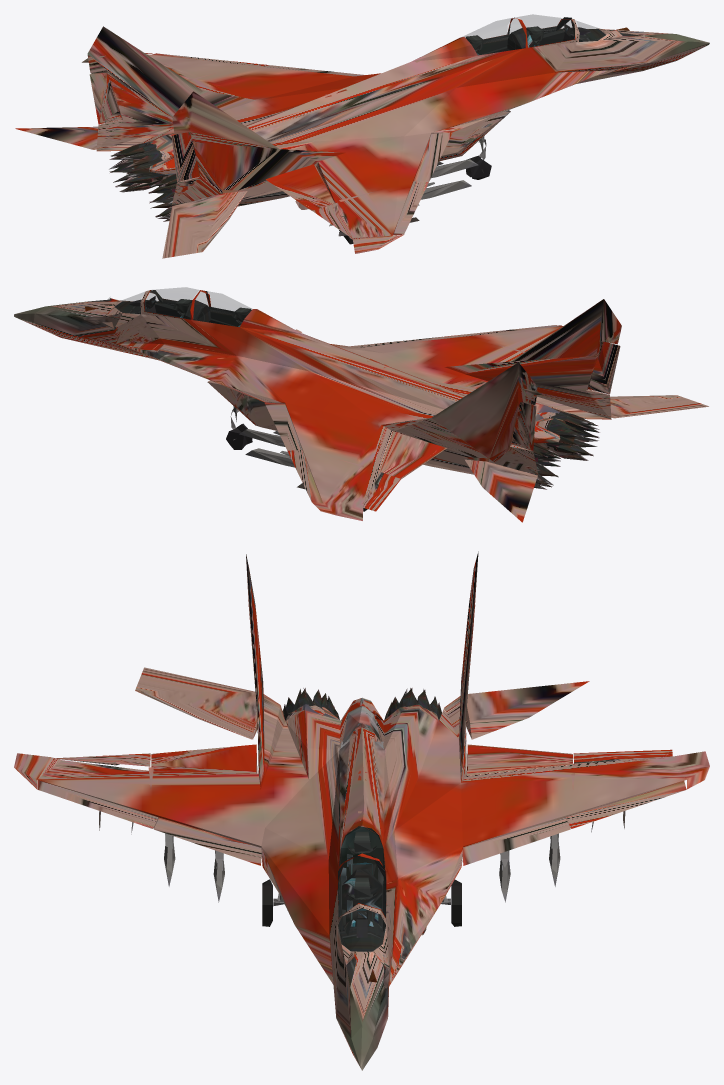
The picture shows the model from 3 angles, top to bottom: view 1: azimuth 30°, elevation 25°; view 2: azimuth 150°, elevation 25°; view 3: azimuth 270°, elevation 25°; orthographic projection. The views are drawn at different scales.
Visible parts, largest first — view 1: Object_8, Object_29, Object_32; view 2: Object_8, Object_29, Object_32; view 3: Object_8, Object_32, Object_29.
Boxes of the visible parts, <box> form: Object_8: <box>15,18,709,258</box>; Object_29: <box>463,14,621,54</box>; Object_32: <box>465,17,605,55</box>; Object_8: <box>14,290,708,522</box>; Object_29: <box>107,287,251,326</box>; Object_32: <box>114,290,251,326</box>; Object_8: <box>14,551,709,1070</box>; Object_32: <box>338,826,386,951</box>; Object_29: <box>338,827,385,964</box>.
Size of the model in its own units: 164 by 49.8 by 119.
4 materials, 2 textured.
